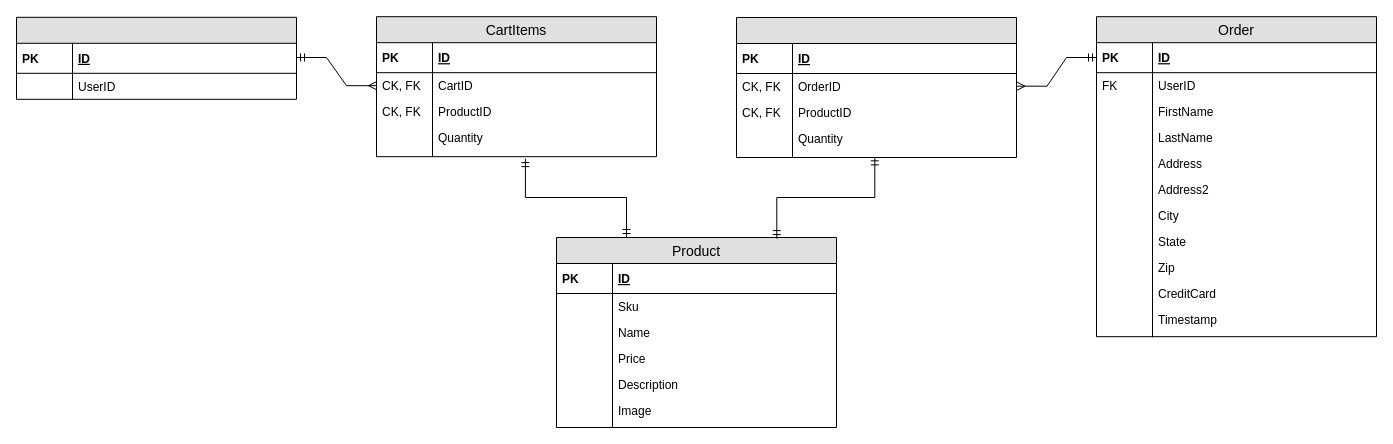
This 1393x444 diagram has some shape labels left out. Here are the shapes that lost their labels. From the top down, the box of each, then its label:
(16, 16, 296, 99): Cart
(736, 16, 1016, 158): OrderItems
